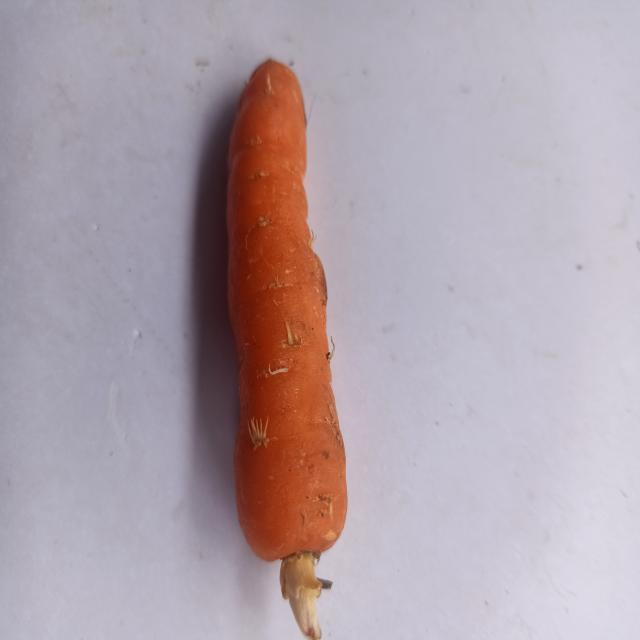Carrot: (183, 43, 365, 640)
